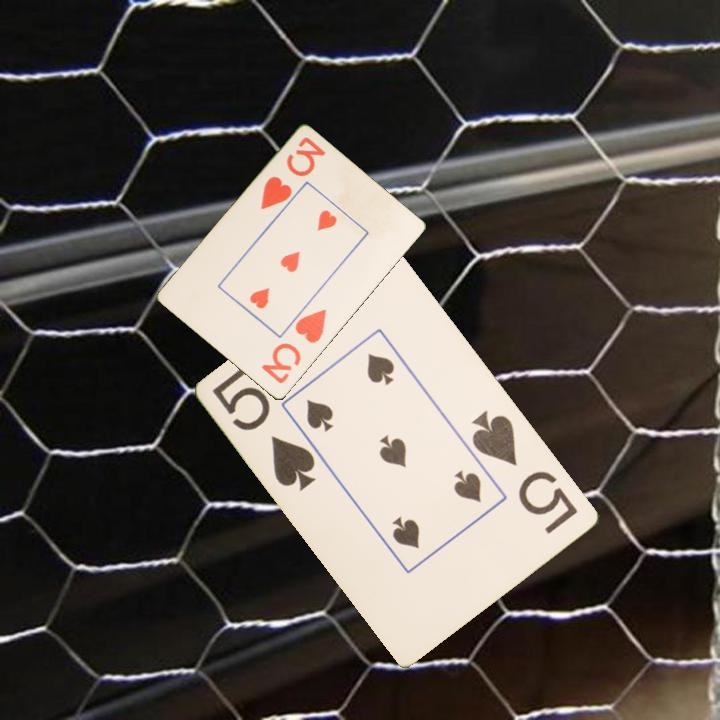3h: (258, 306, 330, 387), (257, 133, 329, 213)
5s: (468, 406, 582, 537), (209, 365, 319, 494)
